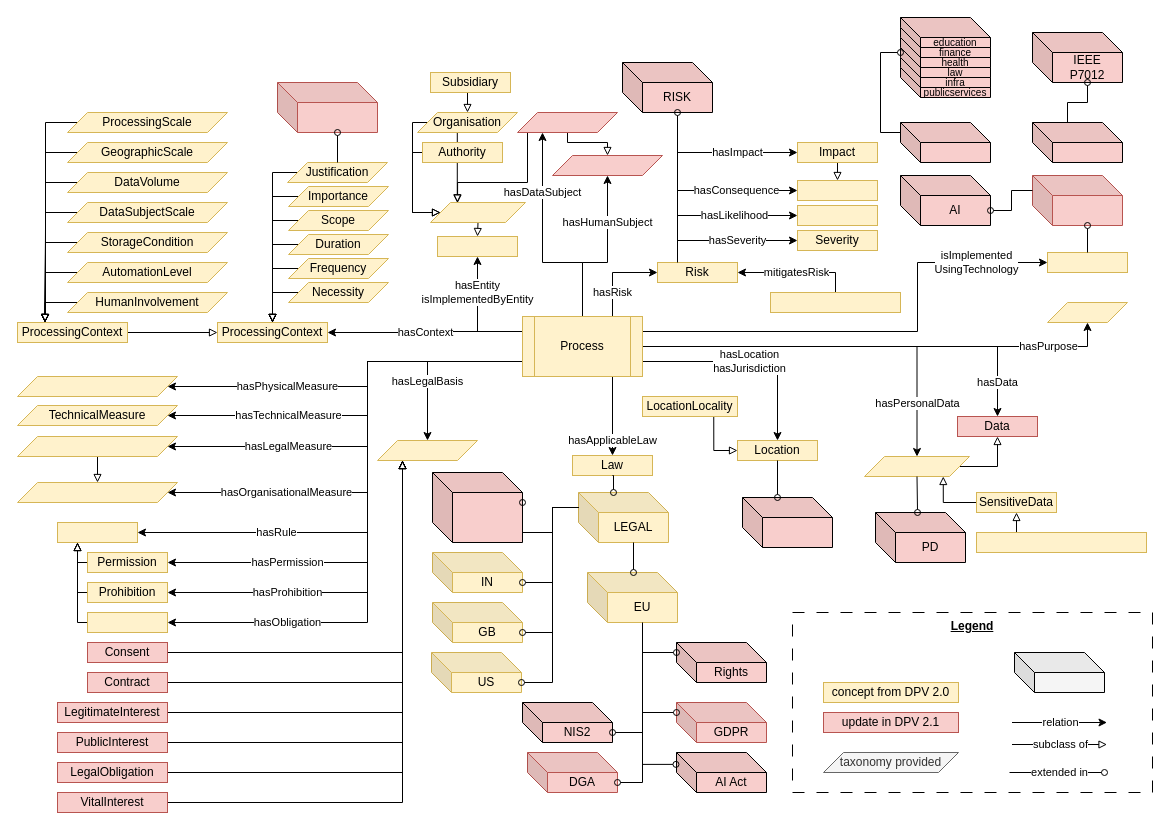
Some shapes in this 1170 by 830 pixel diagram are drawn without their labels. Each missing label, with the centre of its shape:
Consequence: (x=837, y=190)
DataSubject: (x=567, y=122)
Entity: (x=477, y=246)
EU Member States: (x=477, y=507)
extension: (x=1059, y=672)
HumanSubject: (x=607, y=165)
Justifications: (x=327, y=107)
LegalBasis: (x=427, y=450)
LegalEntity: (x=478, y=212)
LegalMeasure: (x=97, y=446)
Likelihood: (x=837, y=215)
LOC: (x=787, y=522)
Obligation: (x=127, y=622)
OrganisationalMeasure: (x=97, y=492)
PersonalData: (x=917, y=466)
PhysicalMeasure: (x=97, y=386)
Purpose: (x=1087, y=312)
RiskMitigationMeasure: (x=835, y=302)
Rule: (x=97, y=532)
Sector: (x=945, y=142)
SpecialCategoryPersonalData: (x=1061, y=542)
Standards: (x=1077, y=142)
TECH: (x=1077, y=200)
Technology: (x=1087, y=262)
